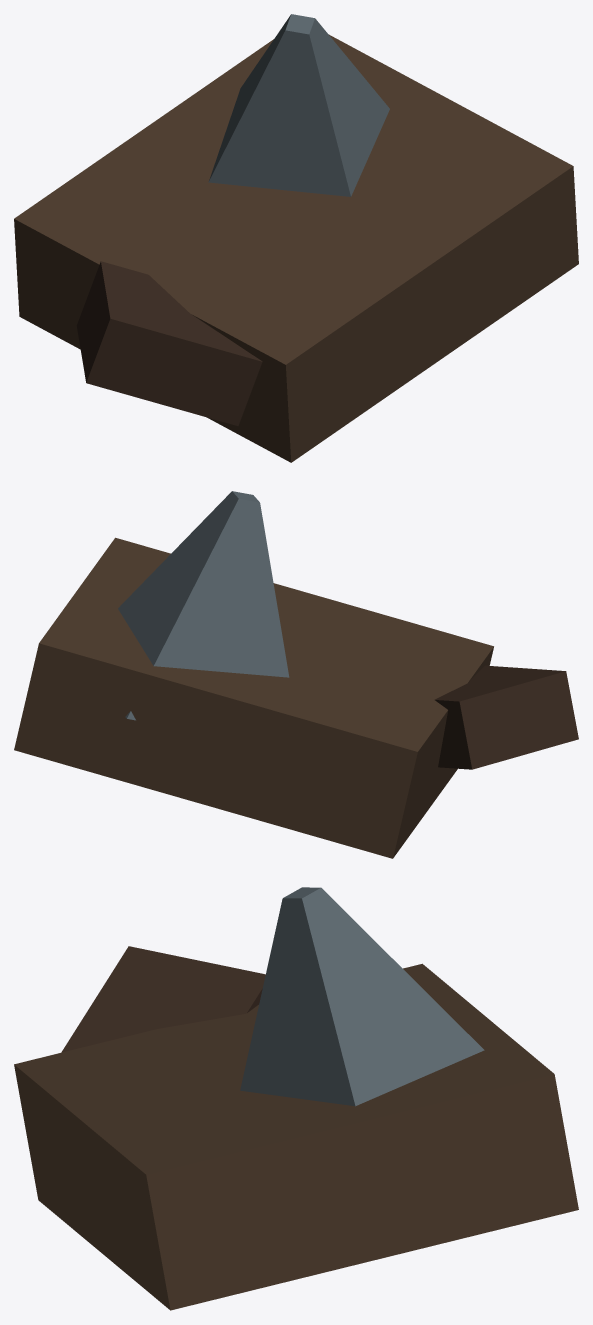
Rendered from enemy_bog_bulwark_fragment_scute.glb.
The picture shows the model from 3 angles, top to bottom: view 1: azimuth 30°, elevation 25°; view 2: azimuth 150°, elevation 25°; view 3: azimuth 270°, elevation 25°; orthographic projection. The views are drawn at different scales.
Parts seen in each view (by area): view 1: Fragment_Scute_Plate, Fragment_Scute_Spike, Fragment_Scute_Chip; view 2: Fragment_Scute_Plate, Fragment_Scute_Spike, Fragment_Scute_Chip; view 3: Fragment_Scute_Plate, Fragment_Scute_Spike, Fragment_Scute_Chip.
Part boxes in pixels (bbox=[...]): Fragment_Scute_Plate: bbox=[14, 34, 578, 462]; Fragment_Scute_Spike: bbox=[208, 14, 389, 196]; Fragment_Scute_Chip: bbox=[76, 261, 262, 425]; Fragment_Scute_Plate: bbox=[14, 537, 493, 858]; Fragment_Scute_Spike: bbox=[118, 491, 289, 720]; Fragment_Scute_Chip: bbox=[434, 665, 578, 769]; Fragment_Scute_Plate: bbox=[14, 963, 578, 1310]; Fragment_Scute_Spike: bbox=[240, 887, 484, 1106]; Fragment_Scute_Chip: bbox=[61, 946, 265, 1052].
Size of the model in its own units: 0.4704 by 0.2931 by 0.3932.
